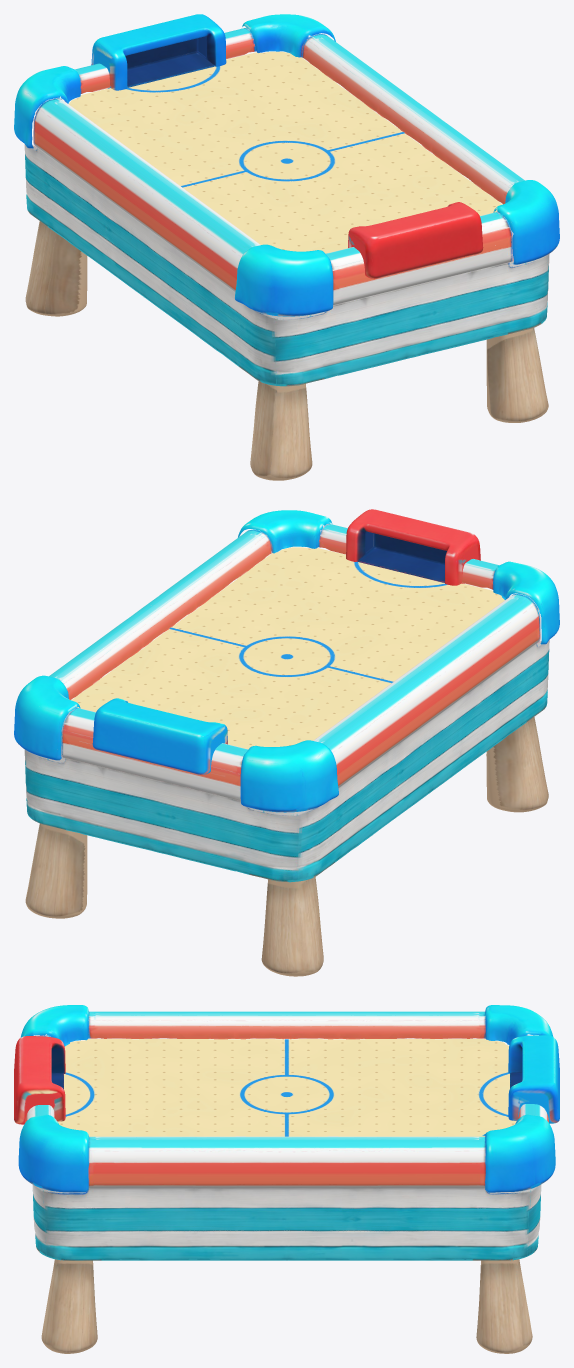
File: table-beach.glb
3 views of the same model, one above another, from view 1: azimuth 30°, elevation 25°; view 2: azimuth 150°, elevation 25°; view 3: azimuth 270°, elevation 25° (orthographic). The views are drawn at different scales.
Visible parts, largest first — view 1: table; view 2: table; view 3: table.
Part boxes in pixels (x1,y1,x2,y2): table: (14,14,559,480); table: (14,509,559,976); table: (14,1005,559,1353).
Bounding box in the file's own units: 7.88 × 5.68 × 12.31.
Materials: 2 (2 with a texture image).
